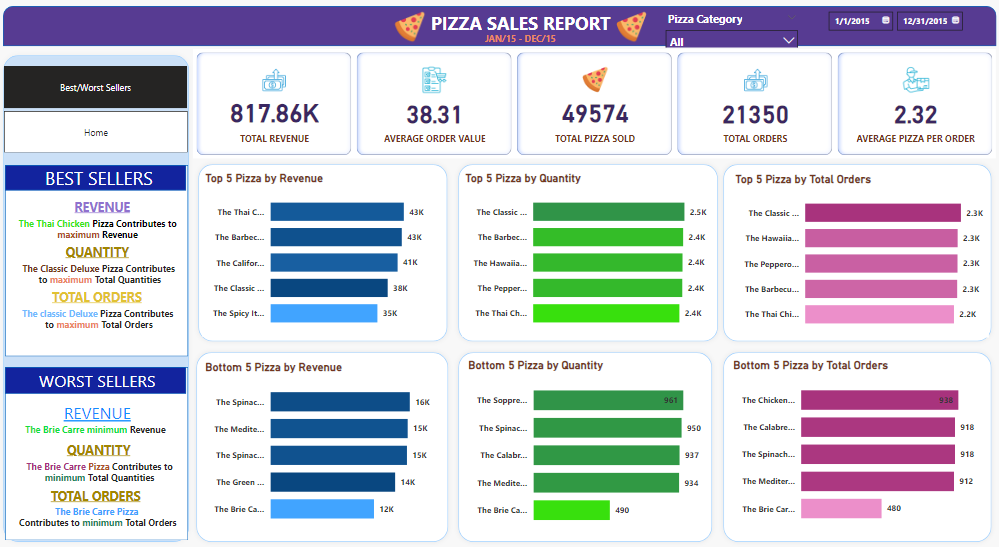

Layout of this report page (visuals, bound fields, positions):
{"tool":"powerbi","page":{"name":"Best/Worst Sellers","canvas":[1500,820],"ordinal":1},"visuals":[{"type":"shape","box":[1074.3,241.4,415.7,280],"z":0},{"type":"cardVisual","fields":{"Data":["pizza_sales.TOTAL REVENUE","pizza_sales.AVERAGE ORDER VALUE","pizza_sales.TOTAL PIZZA SOLD","pizza_sales.TOTAL ORDERS","pizza_sales.AVERAGE PIZZA PER ORDER"]},"box":[292.6,77.9,1197.1,163.2],"z":1000},{"type":"shape","box":[8.8,13.8,1481.2,60],"z":2000},{"type":"textbox","box":[631.2,15,300,51.2],"z":3000},{"type":"image","box":[587.5,16.2,56.2,56.2],"z":4000},{"type":"textbox","box":[708.8,47.5,143.8,30],"z":5000},{"type":"image","box":[916.2,16.2,57.4,55.9],"z":6000},{"type":"shape","box":[288.6,521.4,391.4,298.6],"z":7000},{"type":"shape","box":[680,521.4,394.3,298.6],"z":8000},{"type":"shape","box":[1074.3,521.4,415.7,298.6],"z":9000},{"type":"shape","box":[1.4,78.6,292.9,741.4],"z":10000},{"type":"shape","box":[11.5,250,273.1,285.4],"z":11000},{"type":"shape","box":[11.5,551.5,273.1,258.5],"z":12000},{"type":"shape","box":[11.4,250,270,37.9],"z":13000},{"type":"shape","box":[11.5,551.5,270,40],"z":14000},{"type":"textbox","box":[15.4,245.4,273.8,49.2],"z":15000},{"type":"textbox","box":[110,295,100,60],"z":16000},{"type":"textbox","box":[18,323,264,50],"z":17000},{"type":"textbox","box":[12,430,274,37],"z":18000},{"type":"textbox","box":[12,458,276,49],"z":19000},{"type":"textbox","box":[15.4,550.8,269.2,44.6],"z":20000},{"type":"textbox","box":[18.5,598.5,263.1,43.1],"z":21000},{"type":"textbox","box":[10,631,272,35],"z":22000},{"type":"textbox","box":[18,657,267,40],"z":23000},{"type":"textbox","box":[15.7,685.7,272.9,57.1],"z":24000},{"type":"slicer","fields":{"Values":["pizza_sales.pizza_category"]},"box":[987.1,15.7,217.1,58.6],"z":25000},{"type":"slicer","fields":{"Values":["pizza_sales.order_date"]},"box":[1227.1,11.4,241.4,67.1],"z":26000},{"type":"shape","box":[292.9,241.4,387.1,280],"z":27000},{"type":"textbox","box":[18,363,263,35],"z":28000},{"type":"textbox","box":[15,390,273,50],"z":29000},{"type":"textbox","box":[11.4,725.7,270,40],"z":30000},{"type":"textbox","box":[14.3,752.9,267.1,57.1],"z":31000},{"type":"shape","box":[680,241.4,402.9,280],"z":32000},{"type":"clusteredBarChart","title":"Top 5 Pizza by Revenue","fields":{"Category":["pizza_sales.pizza_name"],"Y":["pizza_sales.TOTAL REVENUE"]},"box":[305.7,260,357.1,247.1],"z":33000},{"type":"clusteredBarChart","title":"Top 5 Pizza by Quantity","fields":{"Category":["pizza_sales.pizza_name"],"Y":["Sum(pizza_sales.quantity)"]},"box":[692.9,260,371.4,247.1],"z":34000},{"type":"clusteredBarChart","title":"Top 5 Pizza by Total Orders","fields":{"Category":["pizza_sales.pizza_name"],"Y":["pizza_sales.TOTAL ORDERS"]},"box":[1095.7,261.4,382.9,247.1],"z":35000},{"type":"clusteredBarChart","title":"Bottom 5 Pizza by Revenue","fields":{"Category":["pizza_sales.pizza_name"],"Y":["pizza_sales.TOTAL REVENUE"]},"box":[305.7,541.4,357.1,258.6],"z":36000},{"type":"clusteredBarChart","title":"Bottom 5 Pizza by Quantity","fields":{"Category":["pizza_sales.pizza_name"],"Y":["Sum(pizza_sales.quantity)"]},"box":[697.1,538.6,357.1,264.3],"z":37000},{"type":"clusteredBarChart","title":"Bottom 5 Pizza by Total Orders","fields":{"Category":["pizza_sales.pizza_name"],"Y":["pizza_sales.TOTAL ORDERS"]},"box":[1092.9,538.6,372.9,261.4],"z":38000},{"type":"pageNavigator","box":[11.2,102.9,273.5,63.5],"z":39000},{"type":"pageNavigator","box":[10.5,170.5,274.8,62.4],"z":40000}]}

Visuals, with their boxes in screenshot pixels (x1, y1, x2, y2), scaled from the page's 1500x820 canvas onto the 999x547 screenshot:
shape: <bbox>715, 161, 992, 348</bbox>
cardVisual - pizza_sales.TOTAL REVENUE x pizza_sales.AVERAGE ORDER VALUE: <bbox>195, 52, 992, 161</bbox>
shape: <bbox>6, 9, 992, 49</bbox>
textbox: <bbox>420, 10, 620, 44</bbox>
image: <bbox>391, 11, 429, 48</bbox>
textbox: <bbox>472, 32, 568, 52</bbox>
image: <bbox>610, 11, 648, 48</bbox>
shape: <bbox>192, 348, 453, 546</bbox>
shape: <bbox>453, 348, 715, 546</bbox>
shape: <bbox>715, 348, 992, 546</bbox>
shape: <bbox>1, 52, 196, 546</bbox>
shape: <bbox>8, 167, 190, 357</bbox>
shape: <bbox>8, 368, 190, 540</bbox>
shape: <bbox>8, 167, 187, 192</bbox>
shape: <bbox>8, 368, 187, 395</bbox>
textbox: <bbox>10, 164, 193, 197</bbox>
textbox: <bbox>73, 197, 140, 237</bbox>
textbox: <bbox>12, 215, 188, 249</bbox>
textbox: <bbox>8, 287, 190, 312</bbox>
textbox: <bbox>8, 306, 192, 338</bbox>
textbox: <bbox>10, 367, 190, 397</bbox>
textbox: <bbox>12, 399, 188, 428</bbox>
textbox: <bbox>7, 421, 188, 444</bbox>
textbox: <bbox>12, 438, 190, 465</bbox>
textbox: <bbox>10, 457, 192, 496</bbox>
slicer - pizza_sales.pizza_category: <bbox>657, 10, 802, 50</bbox>
slicer - pizza_sales.order_date: <bbox>817, 8, 978, 52</bbox>
shape: <bbox>195, 161, 453, 348</bbox>
textbox: <bbox>12, 242, 187, 265</bbox>
textbox: <bbox>10, 260, 192, 294</bbox>
textbox: <bbox>8, 484, 187, 511</bbox>
textbox: <bbox>10, 502, 187, 540</bbox>
shape: <bbox>453, 161, 721, 348</bbox>
"Top 5 Pizza by Revenue" clusteredBarChart: <bbox>204, 173, 441, 338</bbox>
"Top 5 Pizza by Quantity" clusteredBarChart: <bbox>461, 173, 709, 338</bbox>
"Top 5 Pizza by Total Orders" clusteredBarChart: <bbox>730, 174, 985, 339</bbox>
"Bottom 5 Pizza by Revenue" clusteredBarChart: <bbox>204, 361, 441, 534</bbox>
"Bottom 5 Pizza by Quantity" clusteredBarChart: <bbox>464, 359, 702, 536</bbox>
"Bottom 5 Pizza by Total Orders" clusteredBarChart: <bbox>728, 359, 976, 534</bbox>
pageNavigator: <bbox>7, 69, 190, 111</bbox>
pageNavigator: <bbox>7, 114, 190, 155</bbox>
